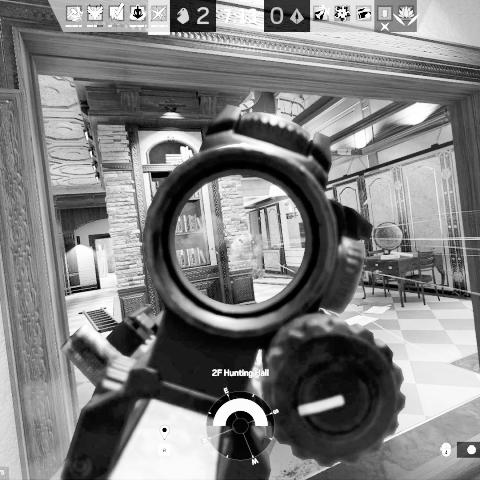Character: (250, 253, 269, 281)
Head: (254, 257, 261, 263)
